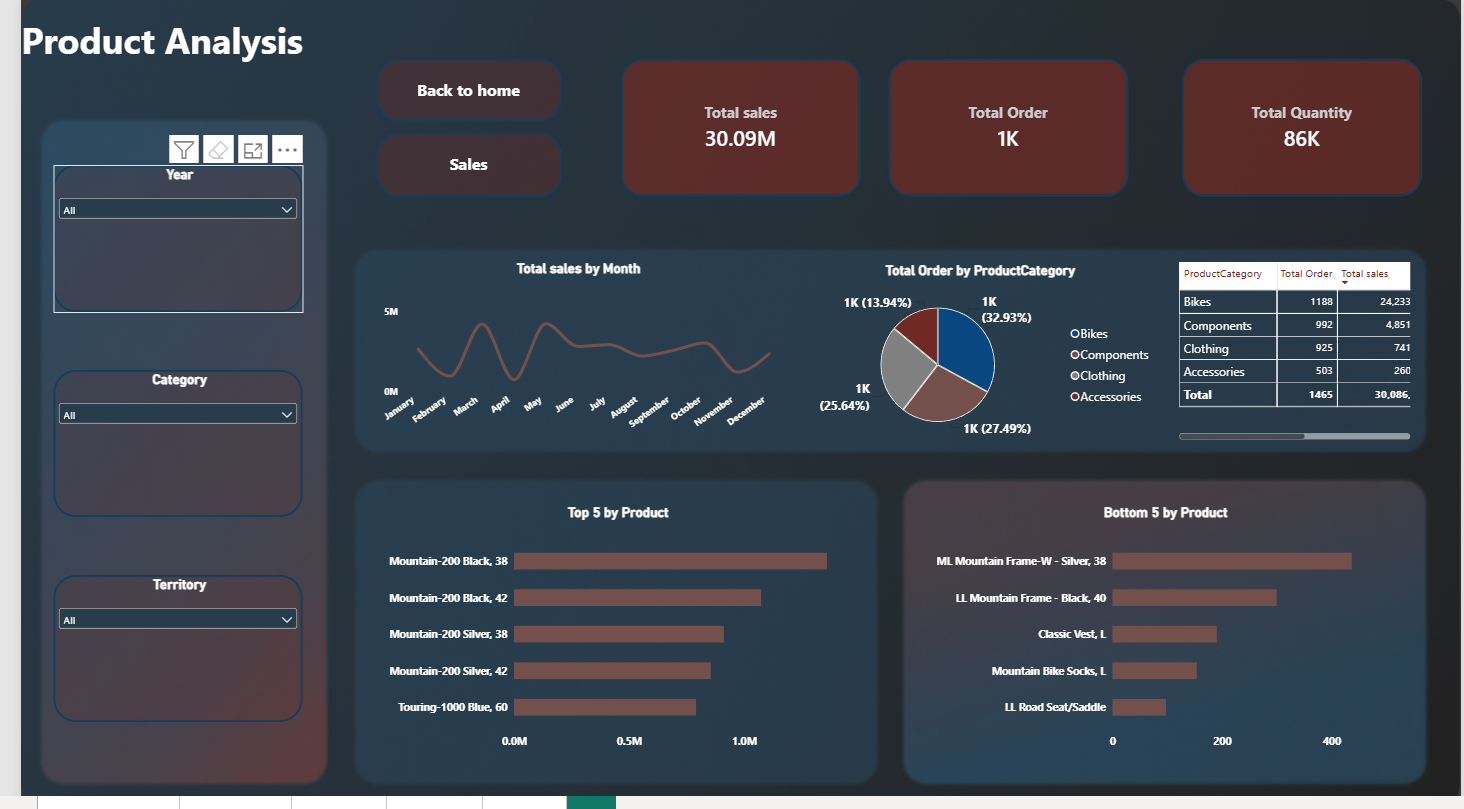

The page's visual inventory and layout, read from the dashboard file:
{"tool":"powerbi","page":{"name":"Proudect","canvas":[1920,1080],"ordinal":1},"visuals":[{"type":"cardVisual","fields":{"Data":["DAX.Total Quantity"]},"box":[1548,78,320,184],"z":0},{"type":"cardVisual","fields":{"Data":["DAX.Total Order"]},"box":[1156,78,320,184],"z":1000},{"type":"textbox","box":[0,20,376,128],"z":2000},{"type":"cardVisual","fields":{"Data":["DAX.Total sales"]},"box":[800,78,320,184],"z":3000},{"type":"actionButton","box":[474,78,248,84],"z":4000},{"type":"actionButton","title":"customers","box":[474,176,248,86],"z":5000},{"type":"slicer","title":"Year","fields":{"Values":["order_datedim.Date.Variation.Date Hierarchy.Year"]},"box":[44,220,332,196],"z":6000},{"type":"slicer","title":"Category","fields":{"Values":["product_dim.ProductCategory"]},"box":[44,493,332,196],"z":7000},{"type":"slicer","title":"Territory","fields":{"Values":["Territory_dim.Territory"]},"box":[44,766,332,196],"z":8000},{"type":"clusteredBarChart","title":"Top 5 by Product","fields":{"Category":["product_dim.Product"],"Y":["DAX.Total sales"]},"box":[474,658,646,360],"z":9000},{"type":"clusteredBarChart","title":"Bottom 5 by Product","fields":{"Category":["product_dim.Product"],"Y":["DAX.Total sales"]},"box":[1204,658,646,360],"z":10000},{"type":"lineChart","fields":{"Category":["order_datedim.Date.Variation.Date Hierarchy.Month"],"Y":["DAX.Total sales"]},"box":[456,334,574,268],"z":11000},{"type":"pieChart","fields":{"Category":["product_dim.ProductCategory"],"Y":["DAX.Total Order"]},"box":[1030,334.3,498.6,267.1],"z":12000},{"type":"pivotTable","fields":{"Rows":["product_dim.ProductCategory"],"Values":["DAX.Total Order","DAX.Total sales","DAX.Total Quantity"]},"box":[1528.6,334.3,340,267.1],"z":13000}]}

Visuals, with their boxes in screenshot pixels (x1, y1, x2, y2), scaled from the page's 1920x1080 canvas onto the 1464x809 screenshot:
cardVisual - DAX.Total Quantity: bbox(1180, 58, 1424, 196)
cardVisual - DAX.Total Order: bbox(881, 58, 1125, 196)
textbox: bbox(0, 15, 287, 111)
cardVisual - DAX.Total sales: bbox(610, 58, 854, 196)
actionButton: bbox(361, 58, 551, 121)
"customers" actionButton: bbox(361, 132, 551, 196)
"Year" slicer: bbox(34, 165, 287, 312)
"Category" slicer: bbox(34, 369, 287, 516)
"Territory" slicer: bbox(34, 574, 287, 721)
"Top 5 by Product" clusteredBarChart: bbox(361, 493, 854, 763)
"Bottom 5 by Product" clusteredBarChart: bbox(918, 493, 1411, 763)
lineChart - order_datedim.Date.Variation.Date Hierarchy.Month x DAX.Total sales: bbox(348, 250, 785, 451)
pieChart - product_dim.ProductCategory x DAX.Total Order: bbox(785, 250, 1166, 450)
pivotTable - product_dim.ProductCategory x DAX.Total Order: bbox(1166, 250, 1425, 450)
